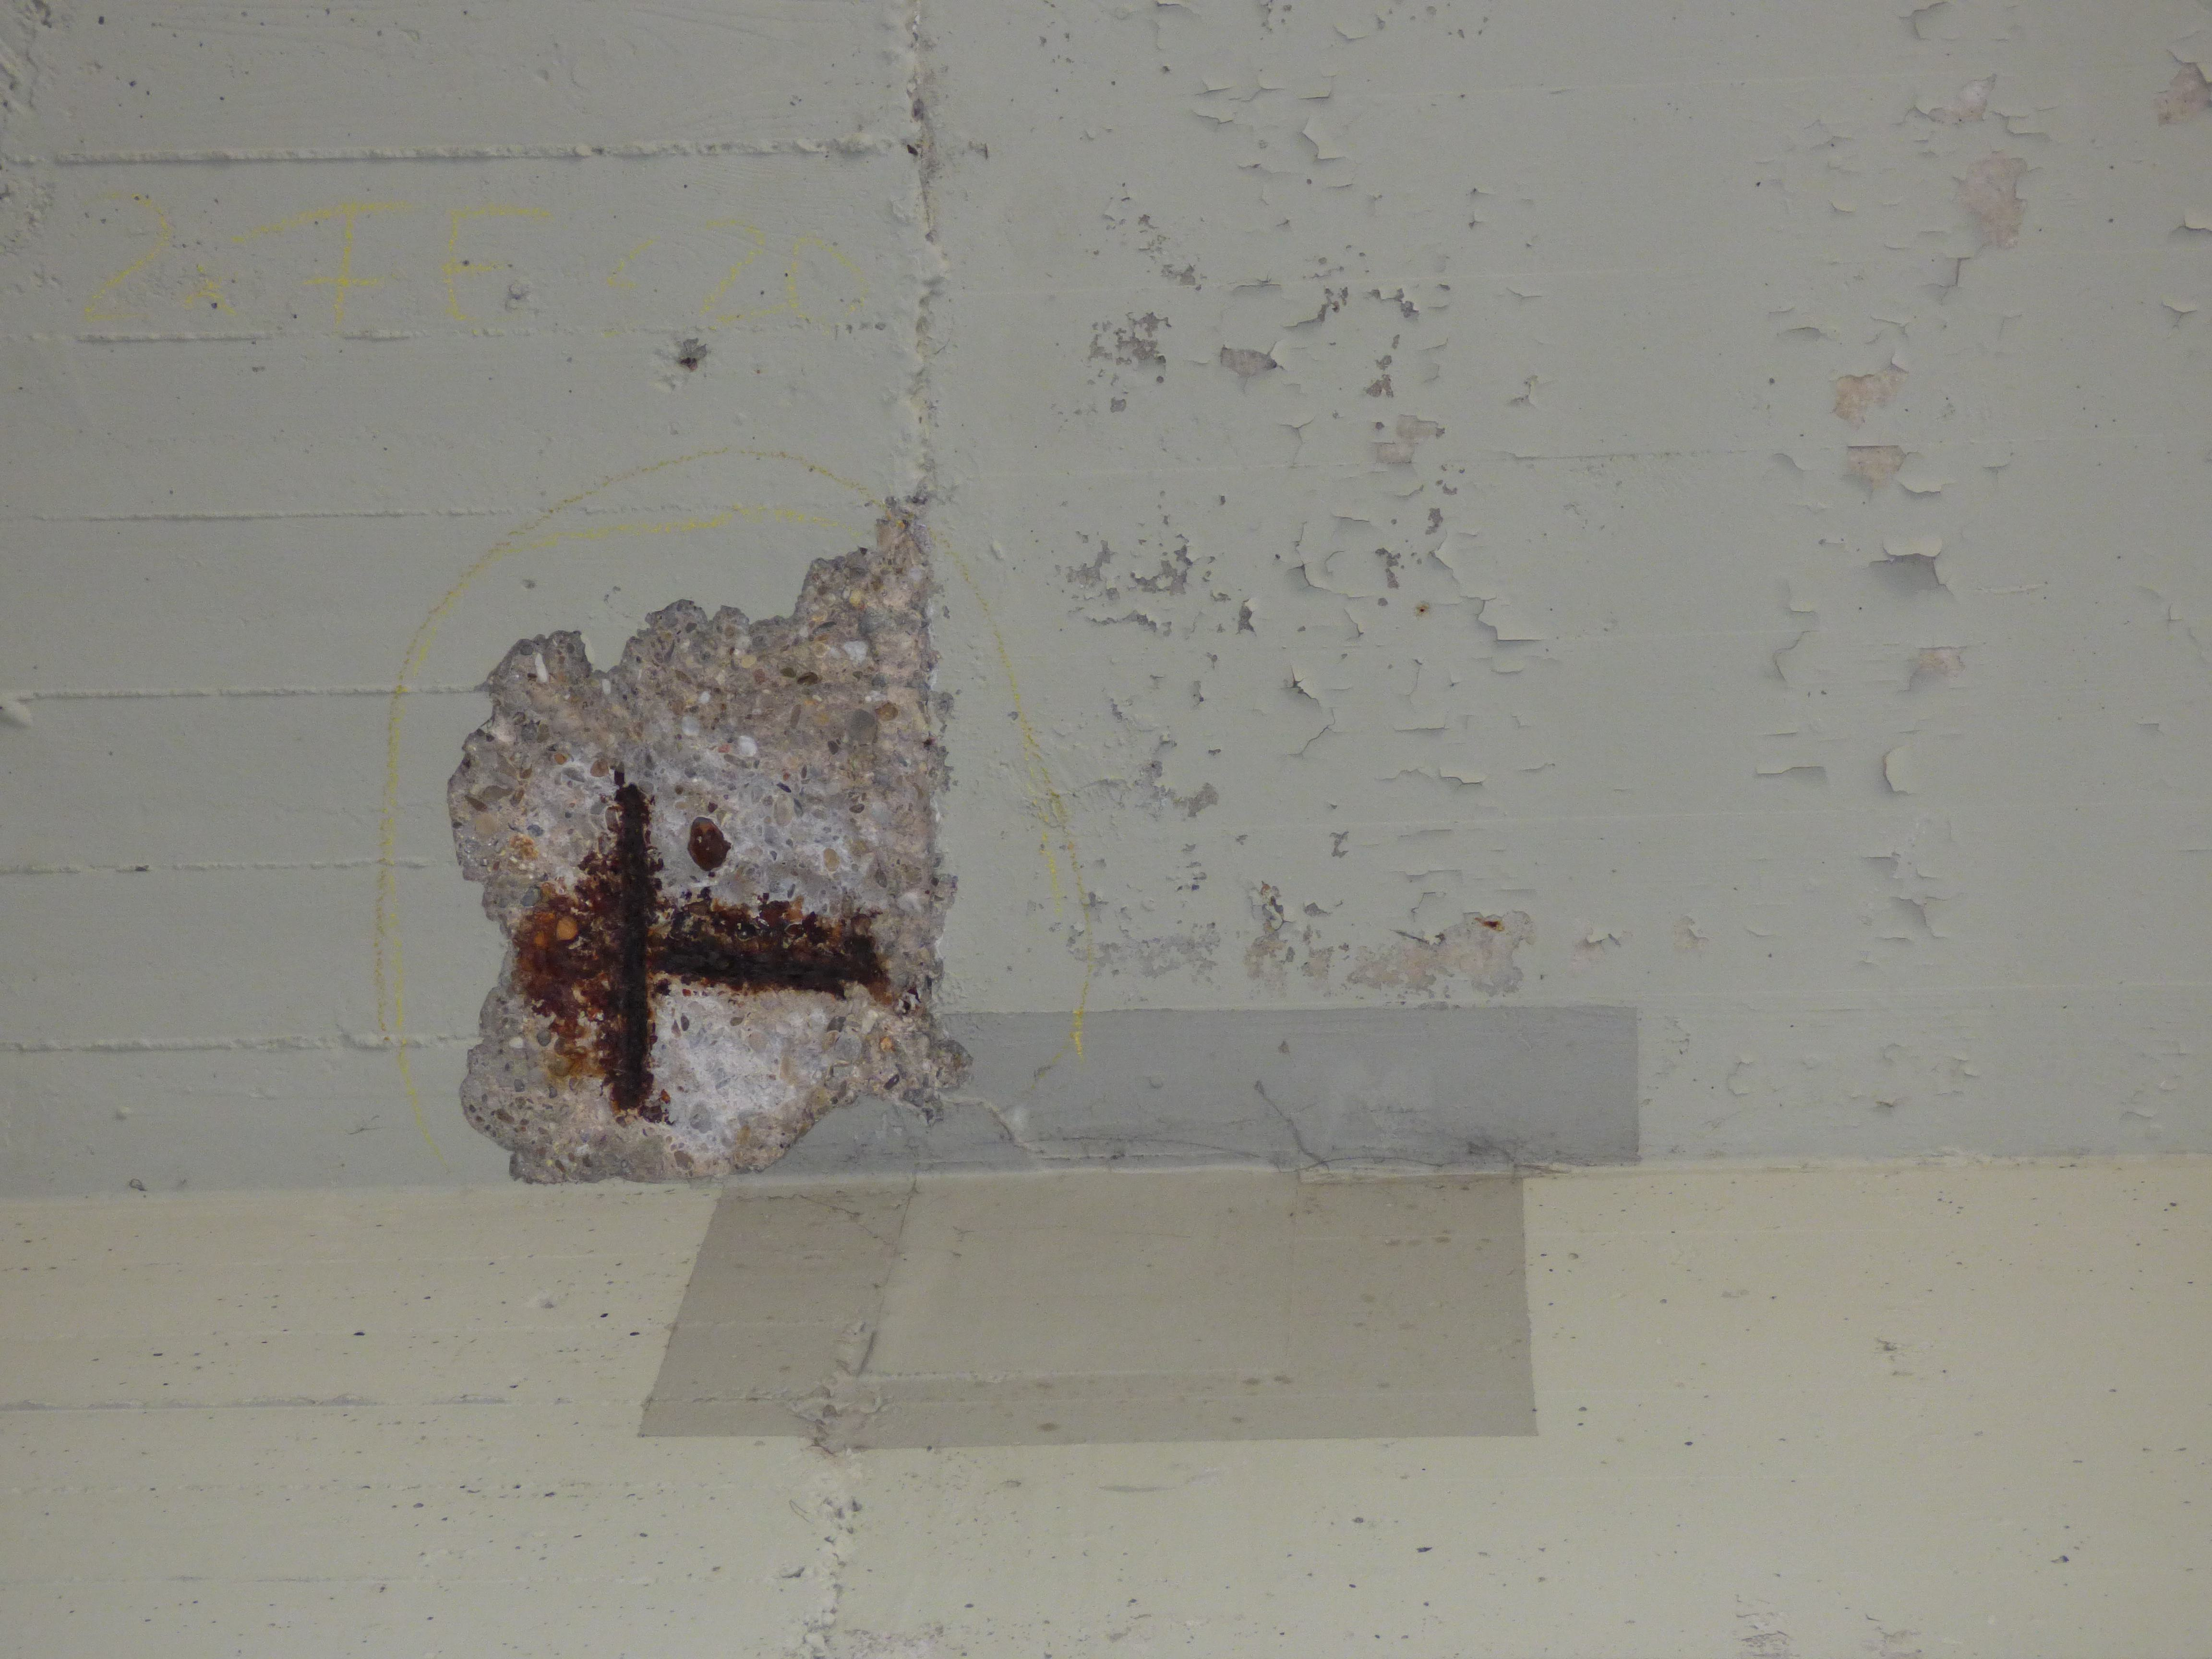Corrosion: (514, 854, 615, 1082), (686, 816, 732, 871)
Exposed reinforcement: (615, 782, 655, 1112), (662, 950, 878, 999)
Spalling: (444, 484, 974, 1187)
